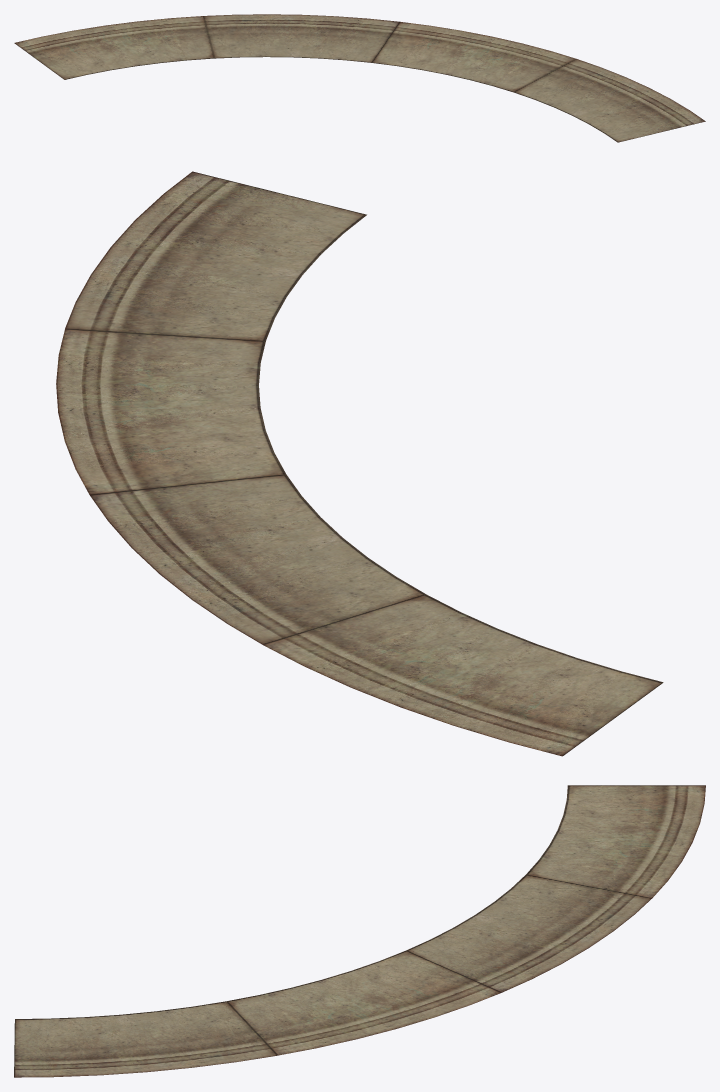
File: 01_02_comm_room_floor_pplant.dae
The picture shows the model from 3 angles, top to bottom: view 1: azimuth 30°, elevation 25°; view 2: azimuth 150°, elevation 25°; view 3: azimuth 270°, elevation 25°; orthographic projection. The views are drawn at different scales.
Parts seen in each view (by area): view 1: low; view 2: low; view 3: low.
Part boxes in pixels (x1,y1,x2,y2): low: (14,14,705,142); low: (56,171,663,756); low: (14,785,705,1077).
Bounding box in the file's own units: 10 × 0 × 10.01.
